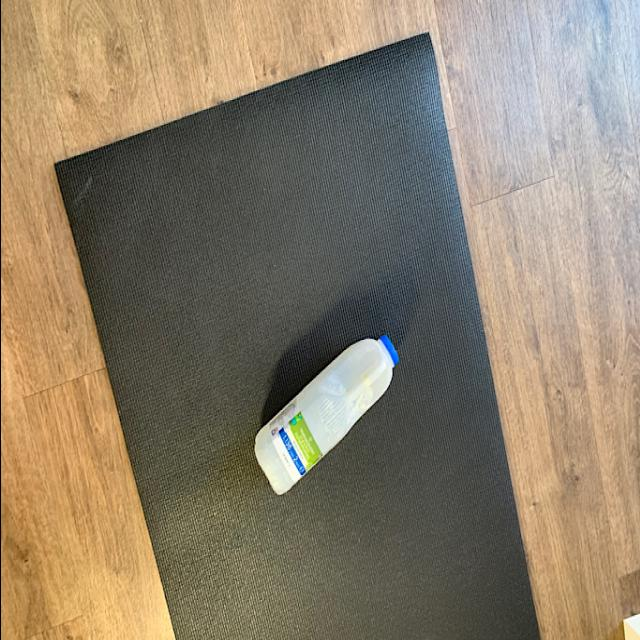litter: (242, 332, 400, 502)
